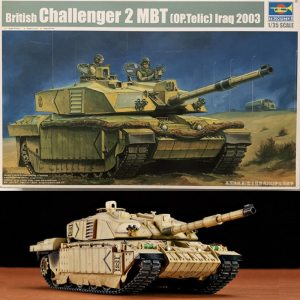Battle Tank: (9, 68, 273, 179), (27, 198, 256, 296)
